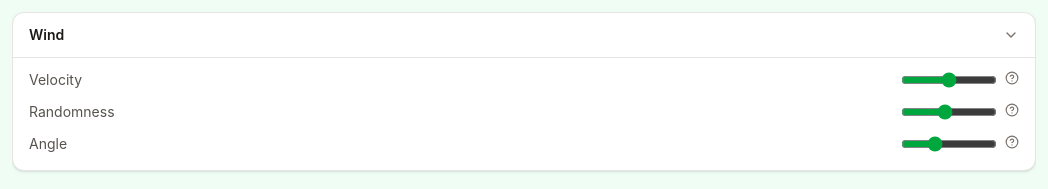
Test: WindSettingsSection › explains the velocity field behind its help icon
Click the button named "what velocity does" at (1012, 78), box 1005,71 -> 1019,85
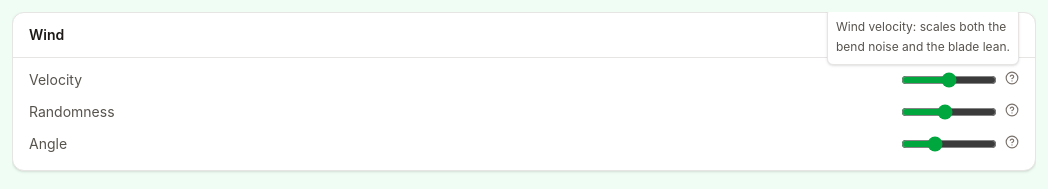
Now the tooltip shows "Wind velocity: scales", box 836,19 -> 1010,54
